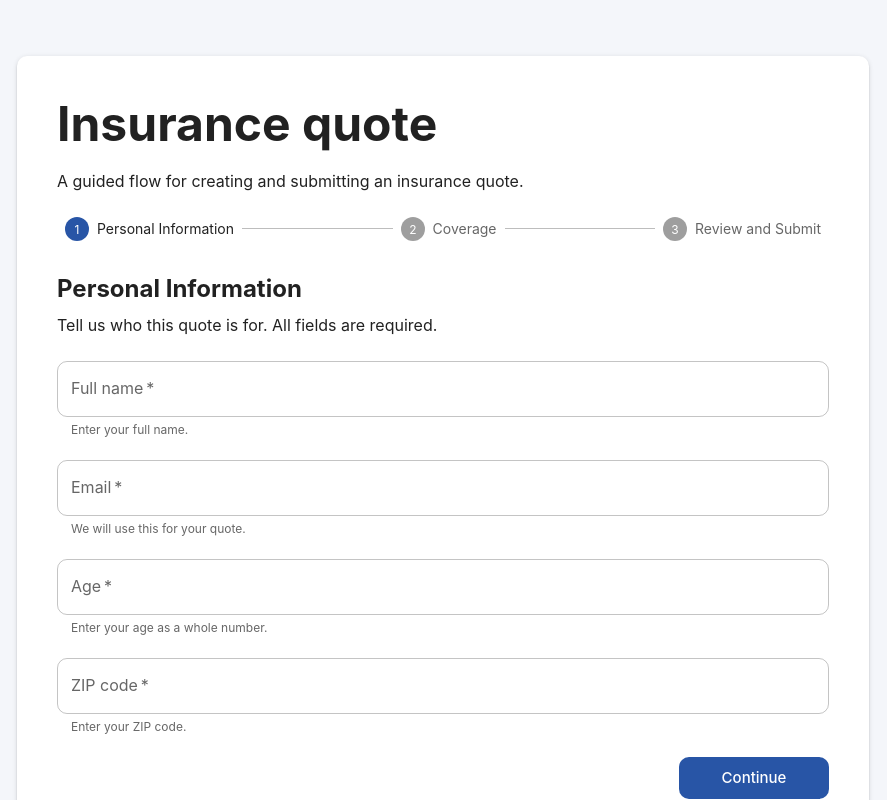
Test: Quote wizard create flow › recovers from a network failure without losing values or navigating
Type "Ada Lovelace" into the field labelled "Full name *".
click(443, 389); type("Ada Lovelace")  # box [57, 361, 829, 417]
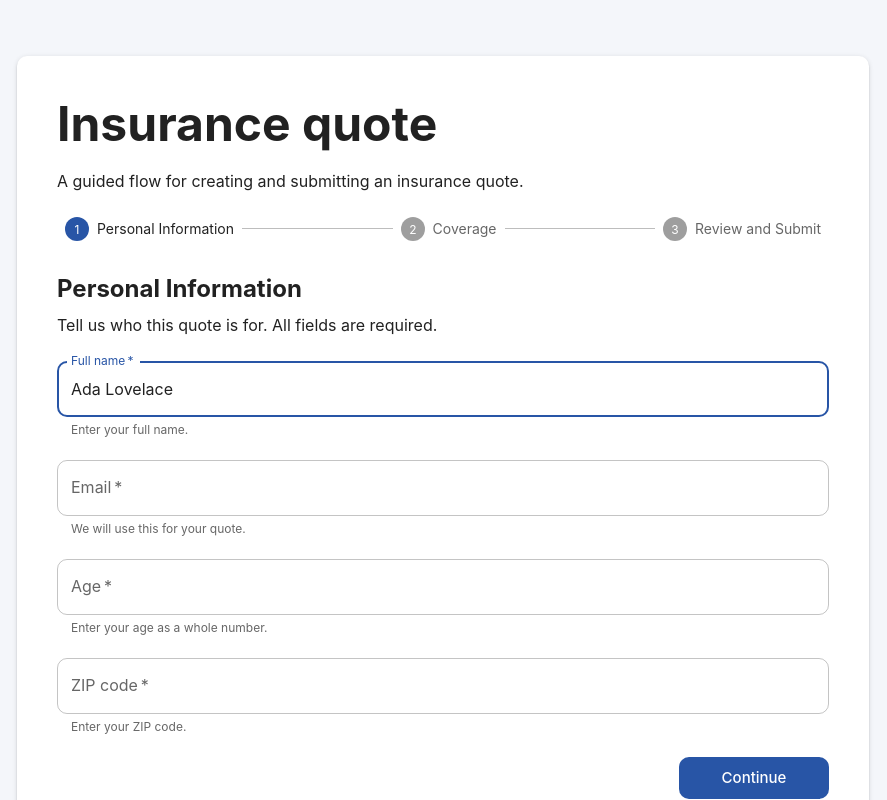
Type "ada@example.invalid" into the field labelled "Email *".
click(443, 488); type("ada@example.invalid")  # box [57, 460, 829, 516]
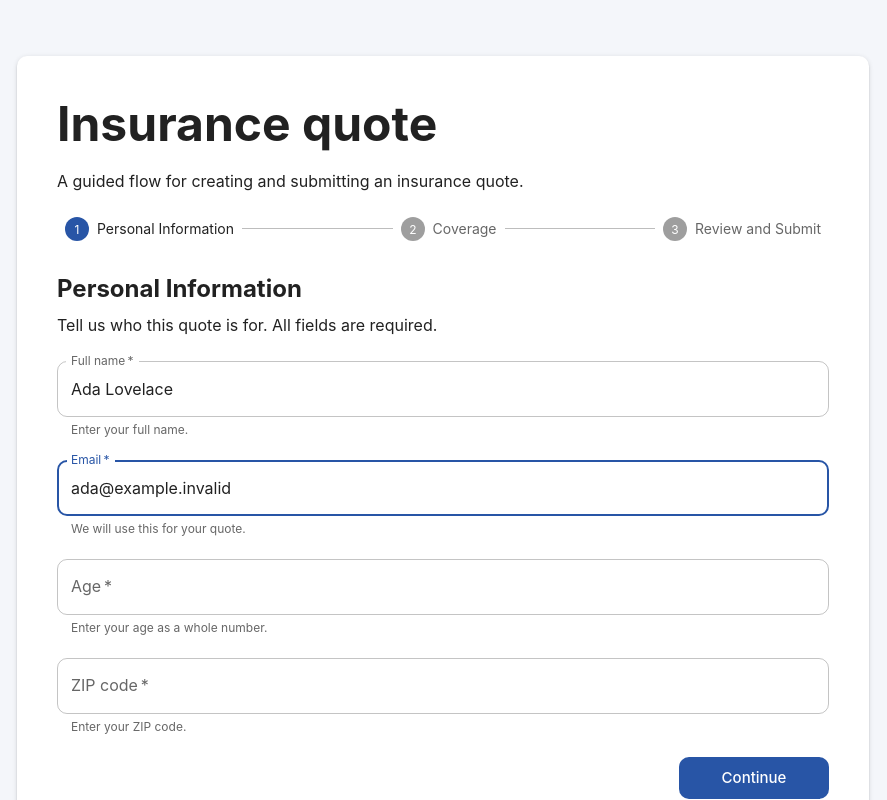
Type "65" into the number field labelled "Age *".
click(443, 587); type("65")  # box [57, 559, 829, 615]
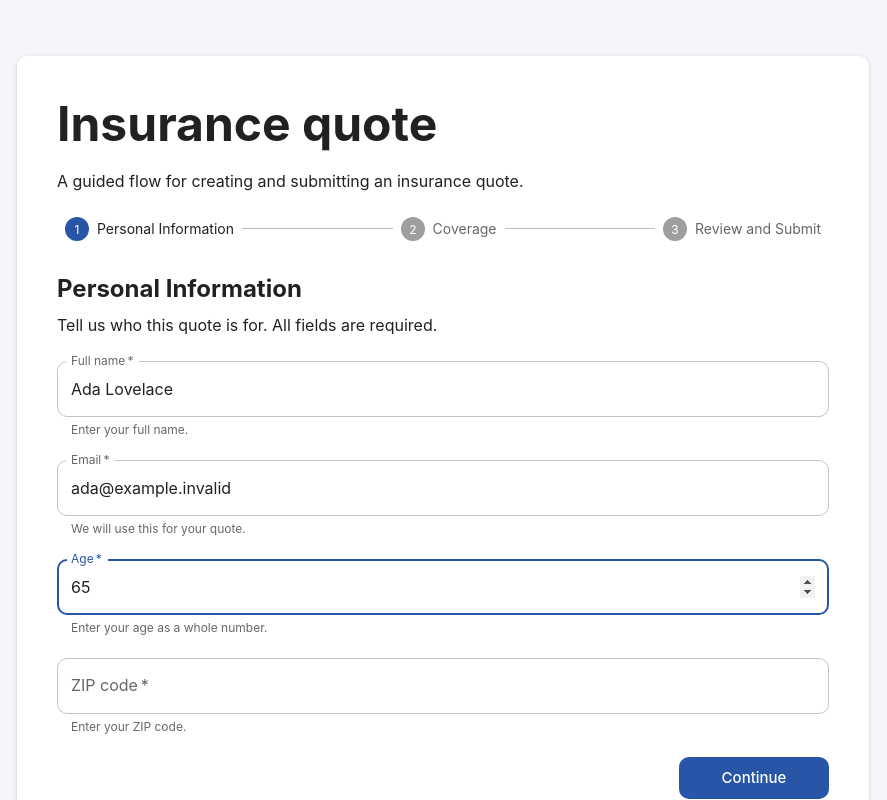
Type "00123" into the field labelled "ZIP code *".
click(443, 686); type("00123")  # box [57, 658, 829, 714]
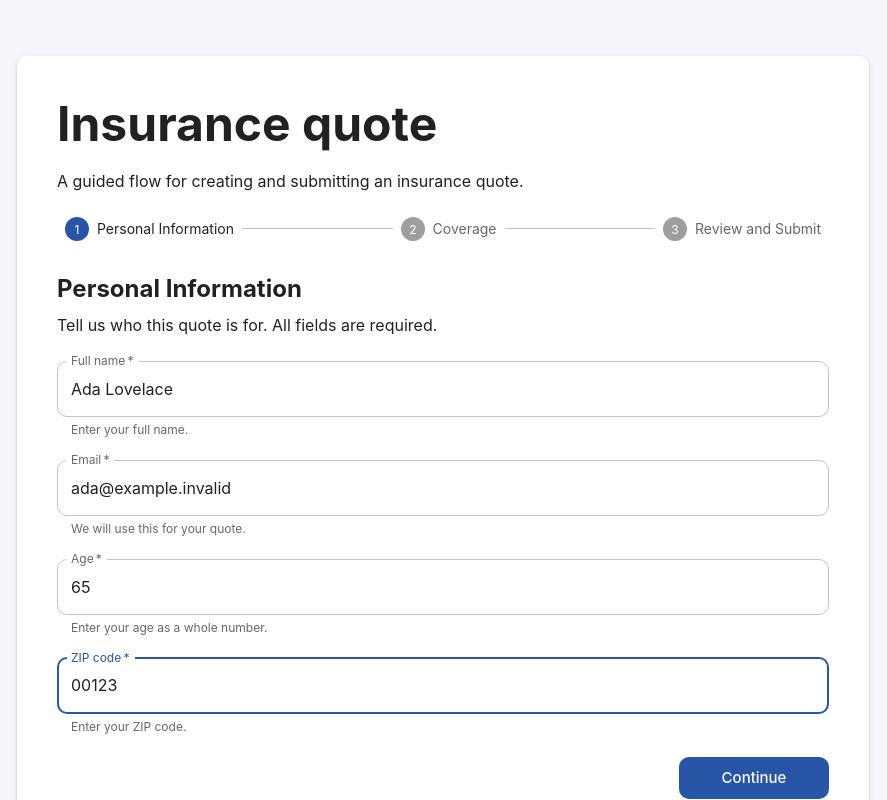
Click the button "Continue".
click(754, 778)  # box [679, 757, 829, 799]
(page scrolled)
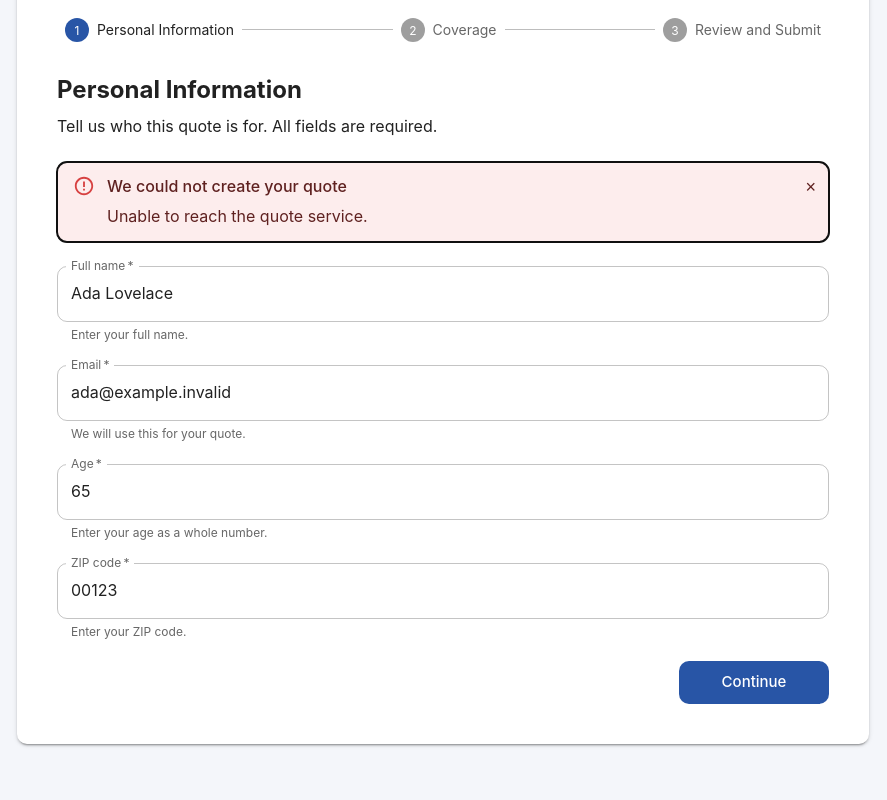
Expected: the button "Continue" is enabled, [679, 661, 829, 704]
Expected: the text "Unable to reach the quote service." is shown, [107, 204, 368, 228]
